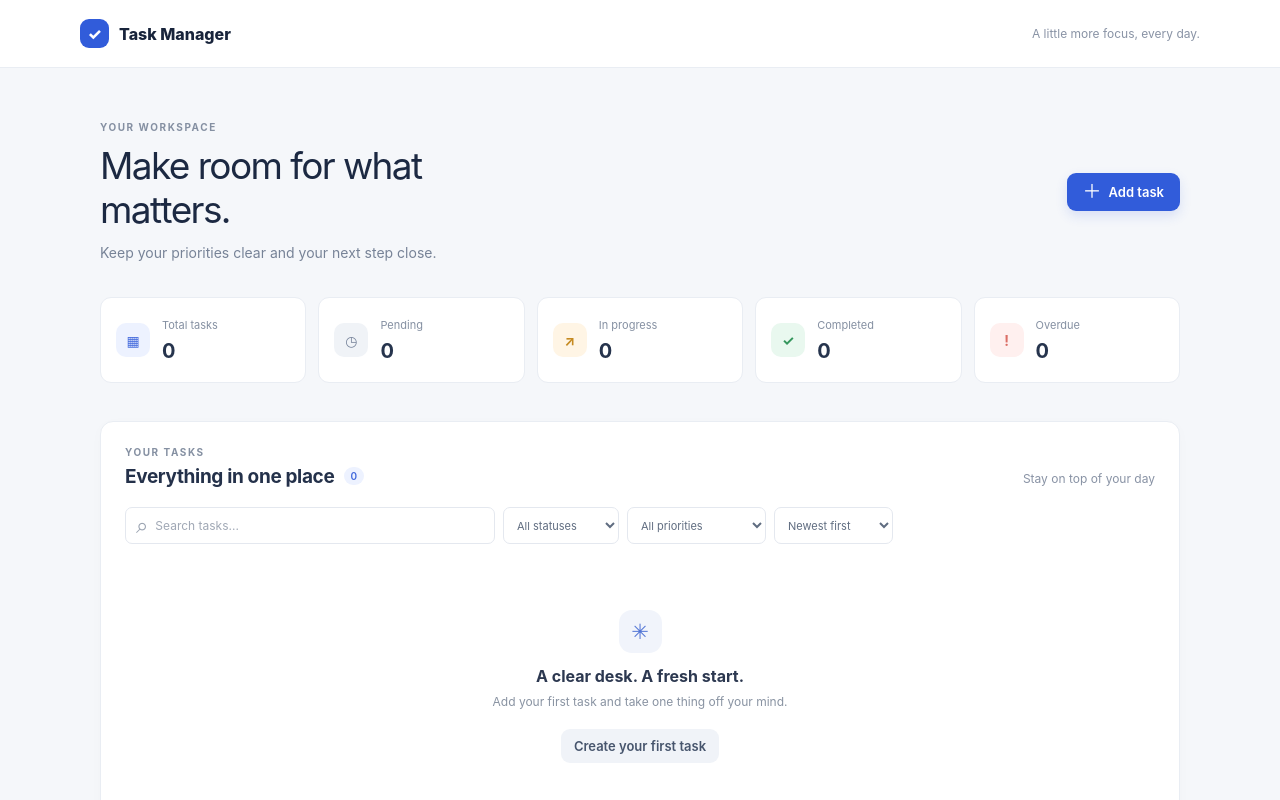
Test: task manager journey › keeps modal keyboard focus inside and closes on Escape
The image size is (1280, 800).
Click the button "＋ Add task" at (1123,192), box [1067, 173, 1180, 211]
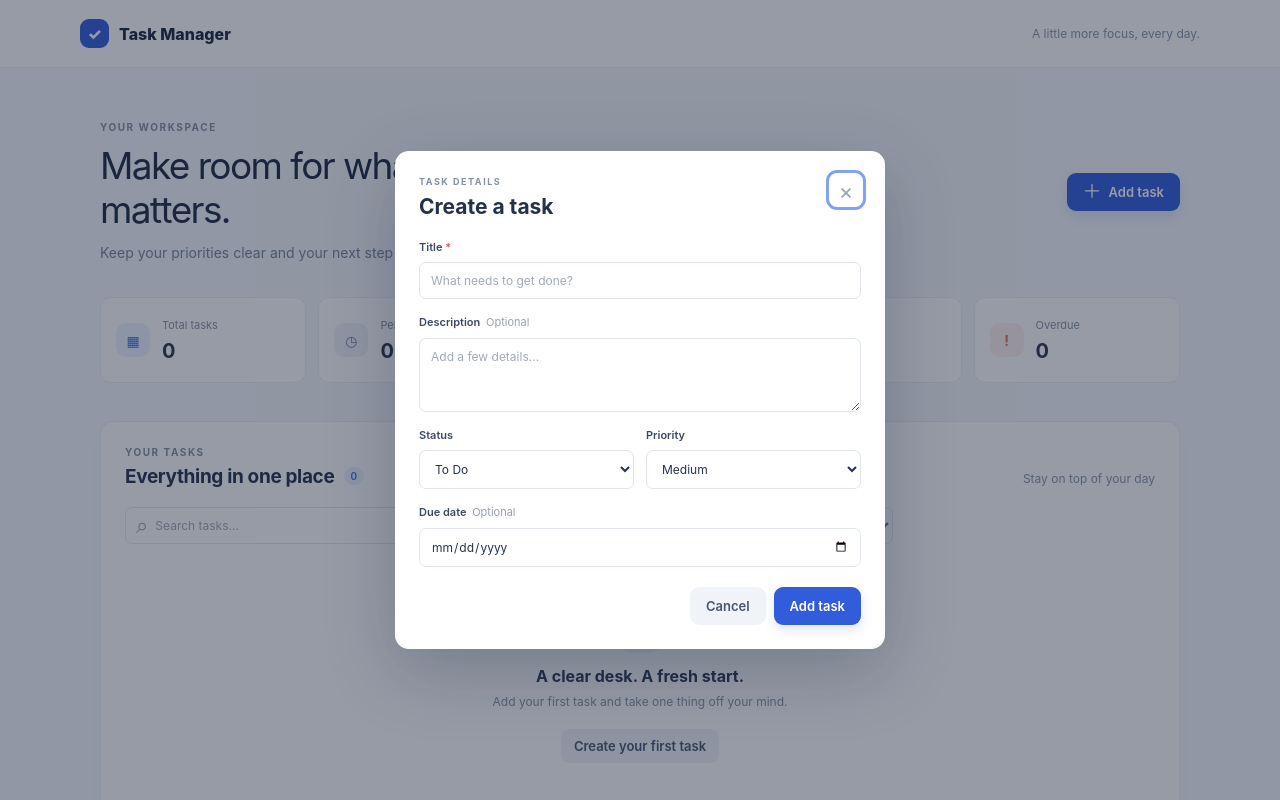
Press Tab
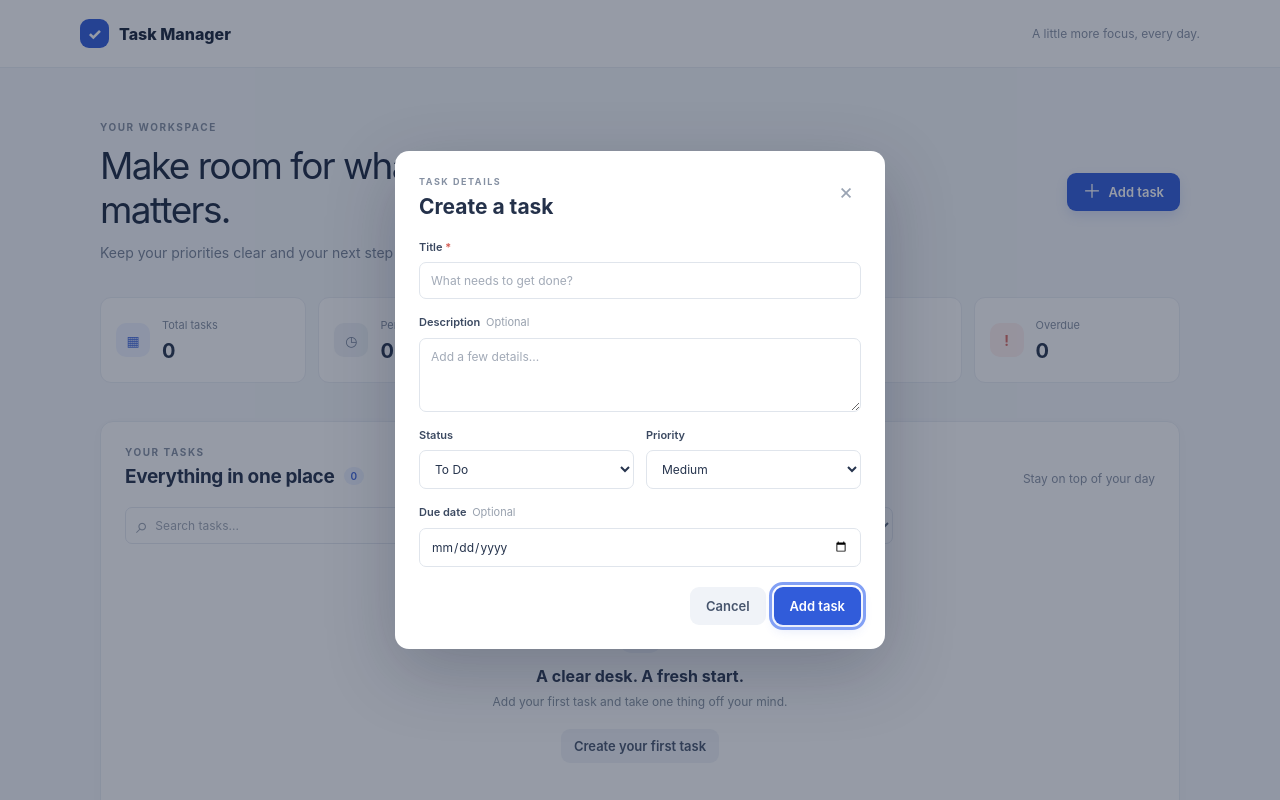
Press Escape
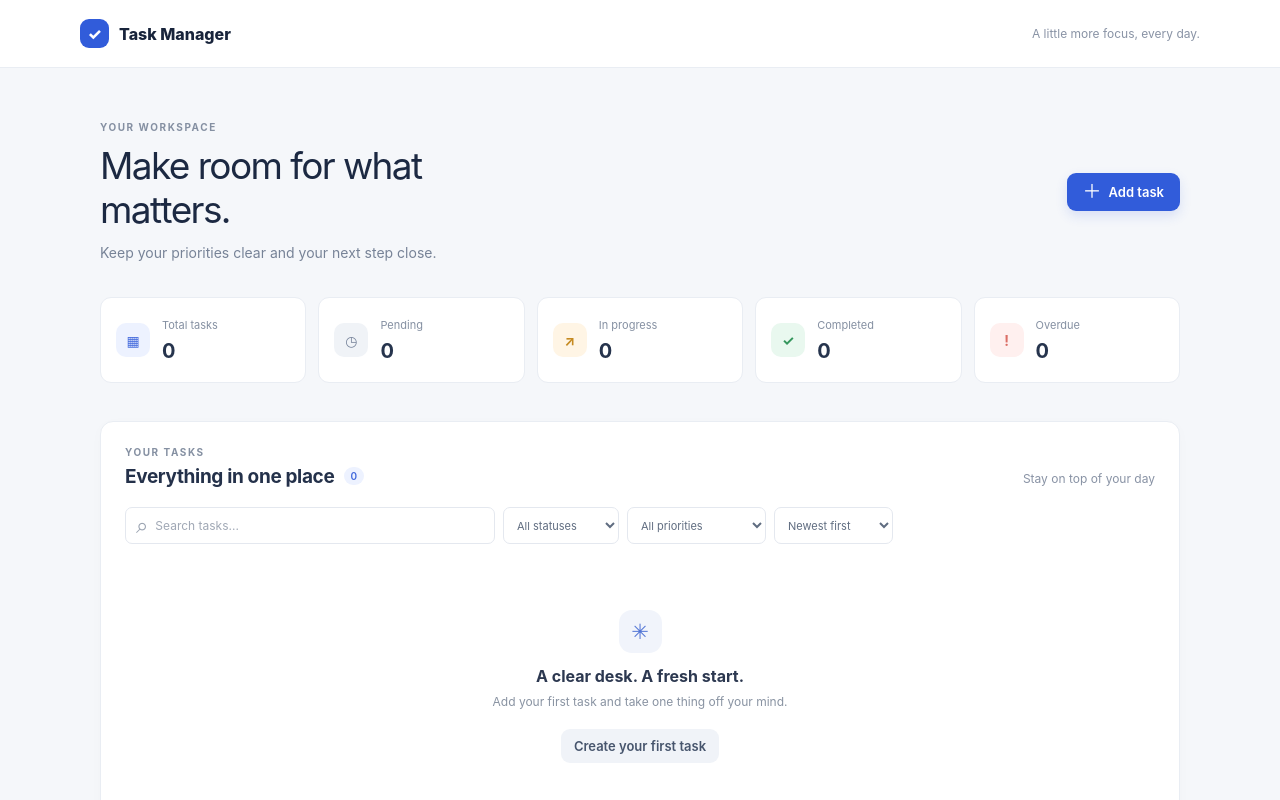
Expected: the dialog is gone
